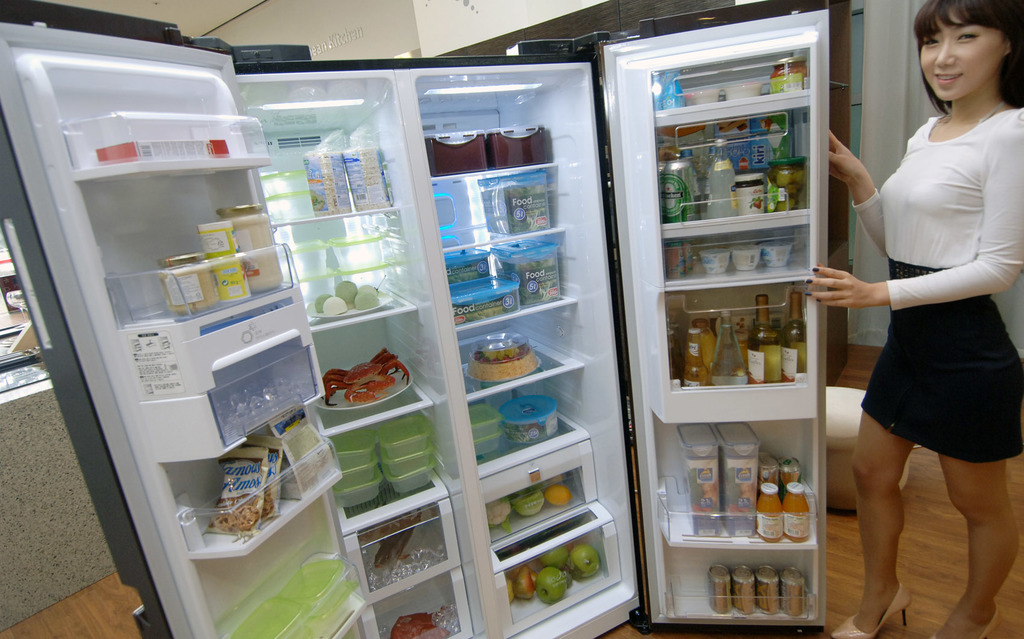refrigerator door: (22, 60, 285, 639), (617, 48, 822, 620)
